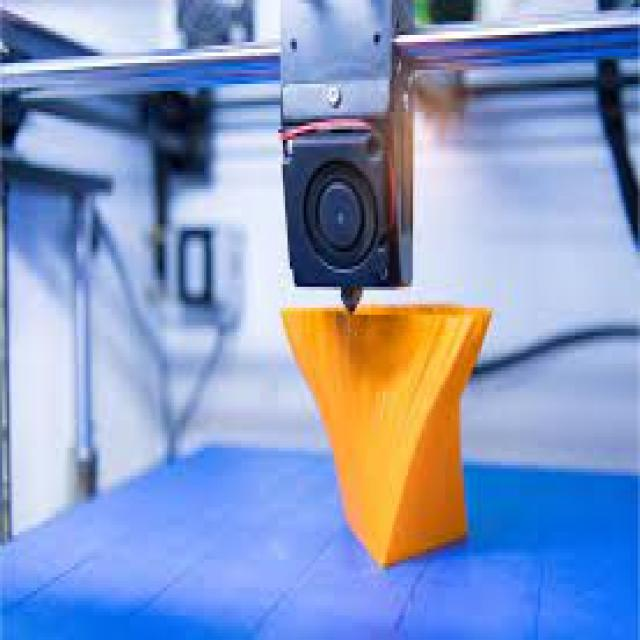Without deffect: (260, 297, 498, 579)
